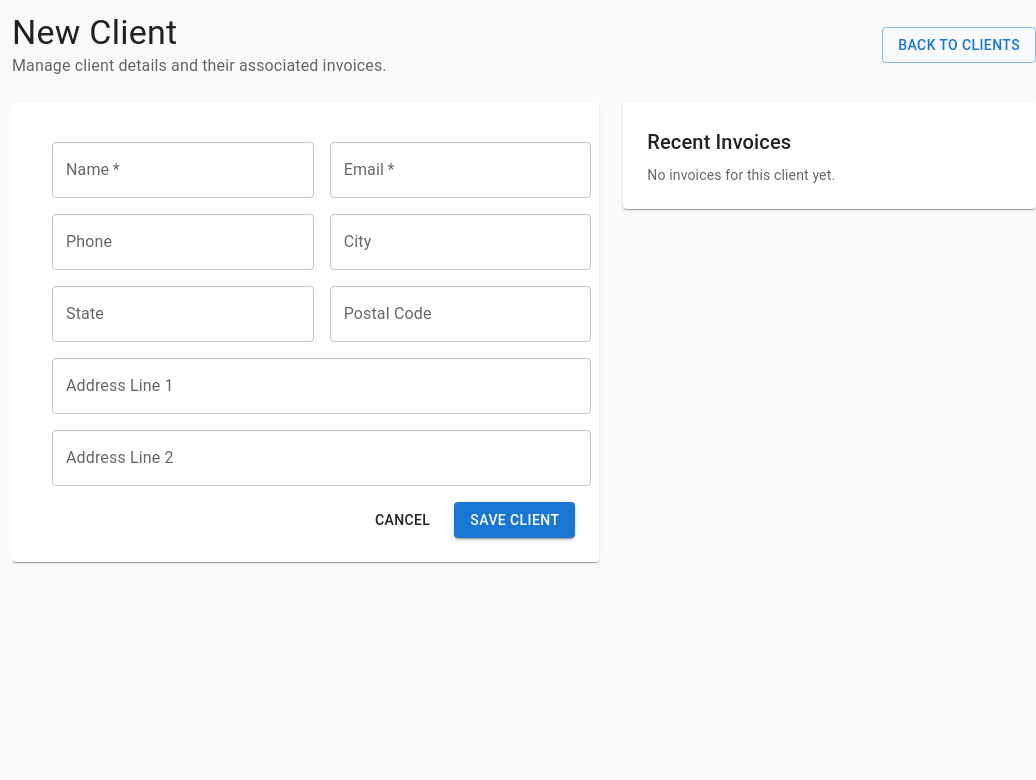
Scenario: ClientFormPage › validates required fields before submitting
Click the button "Save Client" at point(515, 520), box [454, 502, 575, 538]
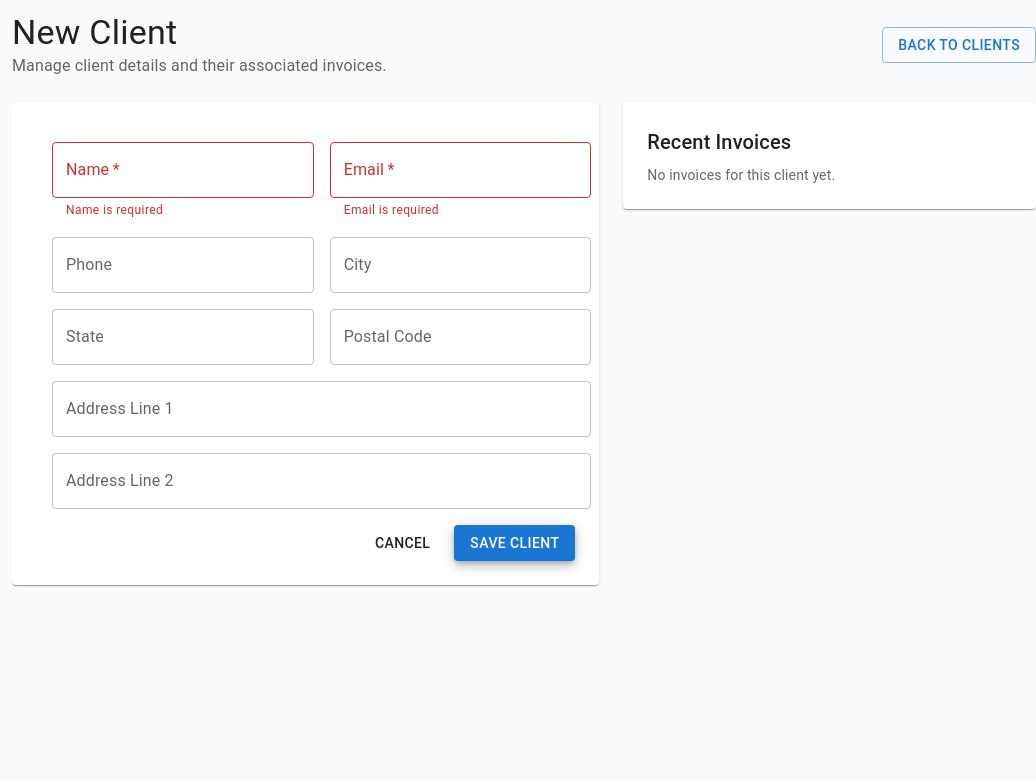
Result: the text "Name is required" is shown at [66, 203, 163, 217]
Result: the text "Email is required" is shown at [344, 203, 439, 217]
